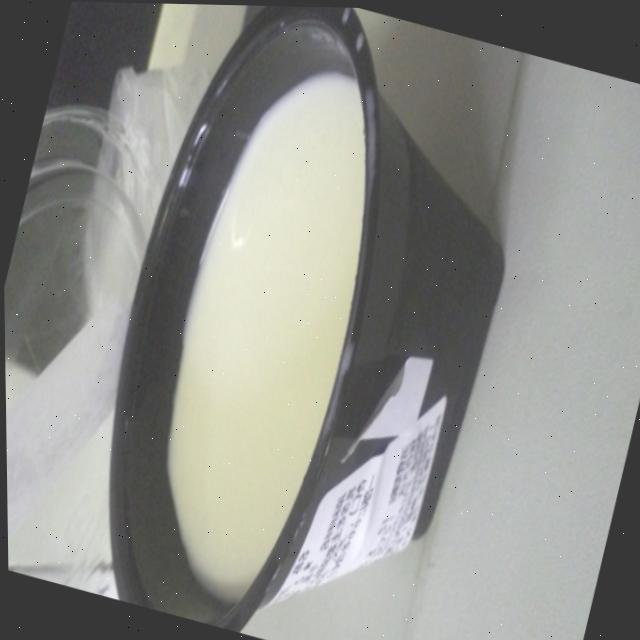熟制海鲜: (223, 162, 486, 509)
